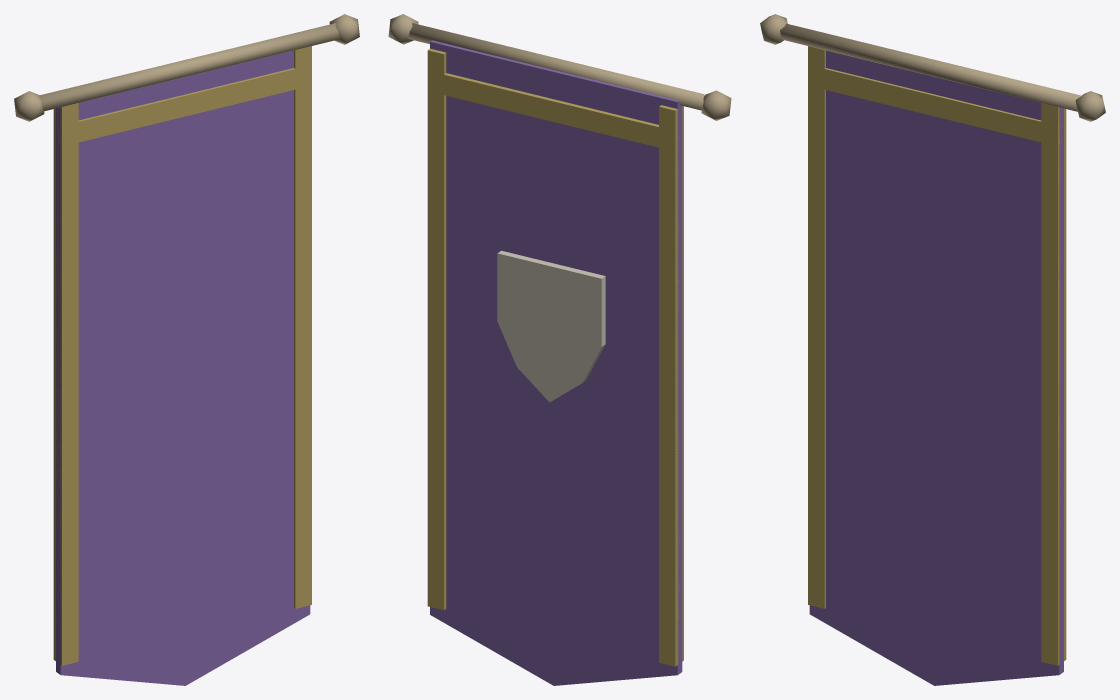
File: etherian_goblin_bomber_banner_v0.glb
3 renders of one model, left to right at view 1: azimuth 30°, elevation 25°; view 2: azimuth 150°, elevation 25°; view 3: azimuth 330°, elevation 25°, orthographic.
Parts seen in each view (by area): view 1: etherian_goblin_bomber_banner_v0; view 2: etherian_goblin_bomber_banner_v0; view 3: etherian_goblin_bomber_banner_v0.
Part boxes in pixels (bbox=[...]): etherian_goblin_bomber_banner_v0: bbox=[14, 14, 359, 685]; etherian_goblin_bomber_banner_v0: bbox=[388, 14, 731, 685]; etherian_goblin_bomber_banner_v0: bbox=[760, 14, 1105, 685].
Bounding box in the file's own units: 1.04 × 1.84 × 0.0933.
